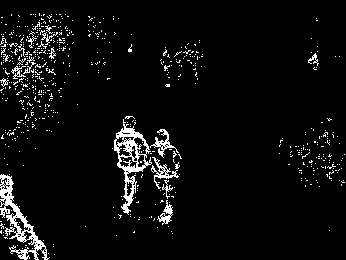person: (114, 112, 151, 214), (149, 127, 182, 224)
